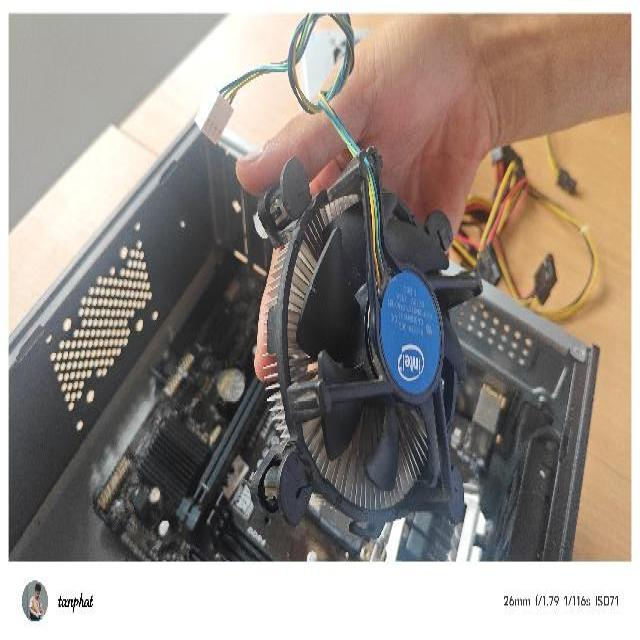CPU_Fan: (246, 138, 484, 541)
